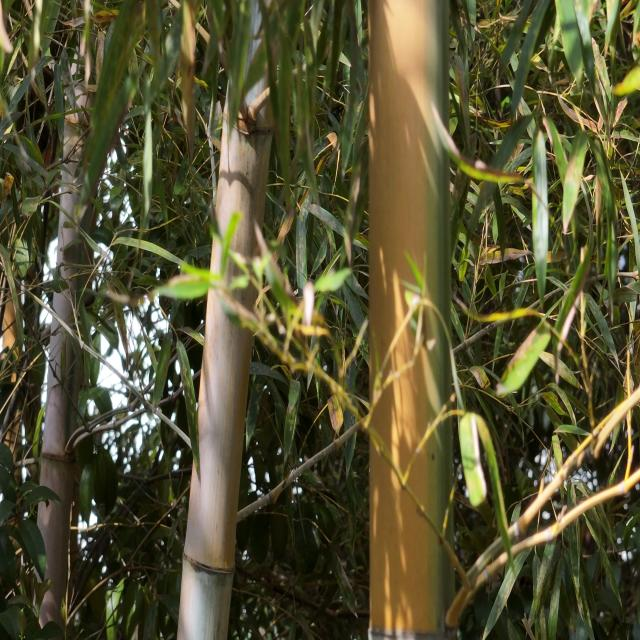Bamboo-shoots: (176, 0, 282, 640)
